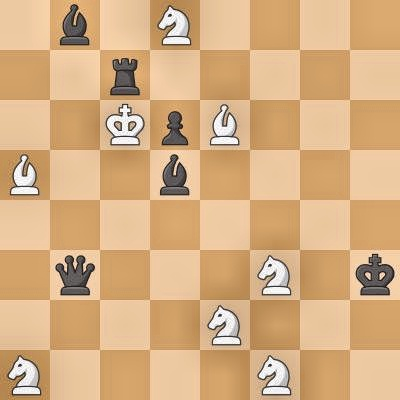black-bishop: (50, 0, 100, 50), (150, 150, 200, 200)
black-king: (350, 250, 400, 300)
black-pawn: (150, 100, 200, 150)
black-queen: (50, 250, 100, 300)
black-rook: (100, 50, 150, 100)
white-bishop: (200, 100, 250, 150), (0, 150, 50, 200)
white-king: (100, 100, 150, 150)
white-knight: (150, 0, 200, 50), (250, 250, 300, 300), (200, 300, 250, 350), (0, 350, 50, 400), (250, 350, 300, 400)
